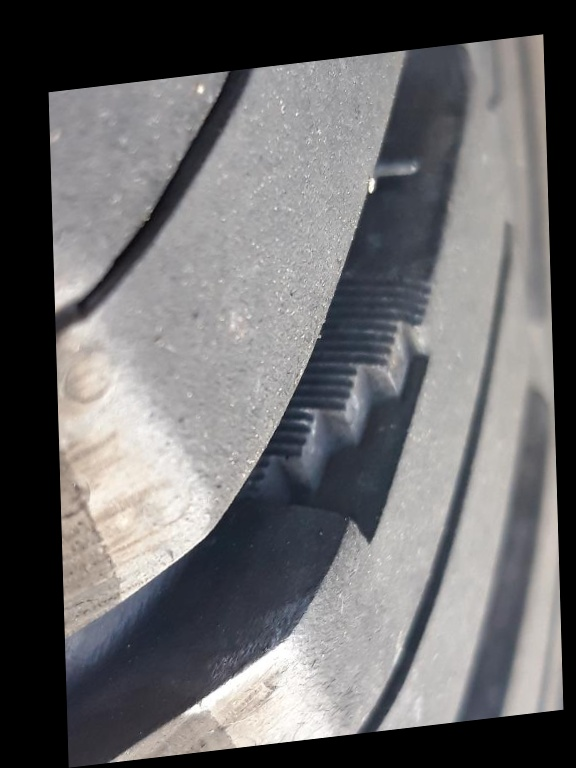temoin:90: (226, 246, 472, 573)
